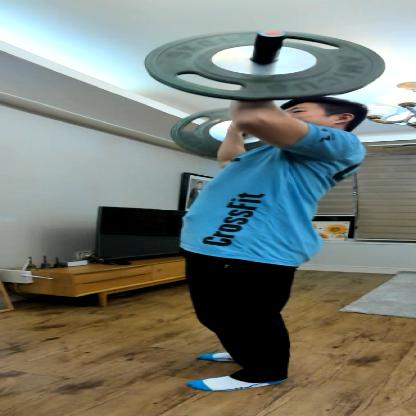Barbell: (126, 24, 392, 107)
